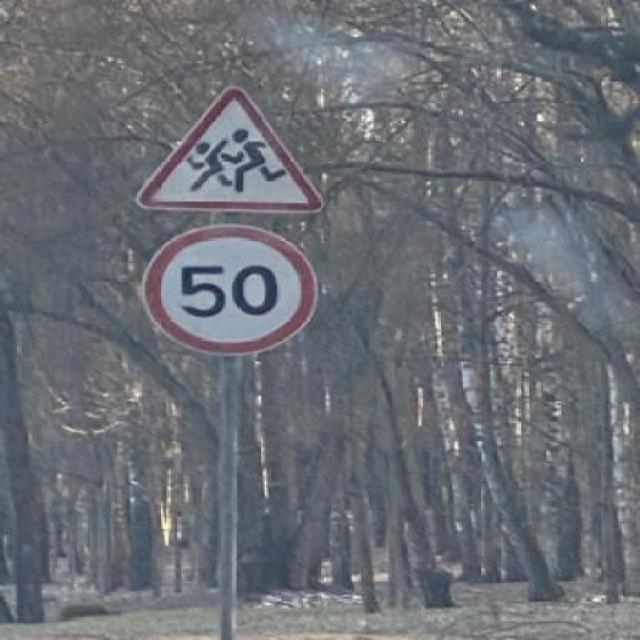forb_speed_over_50: (143, 226, 312, 352)
